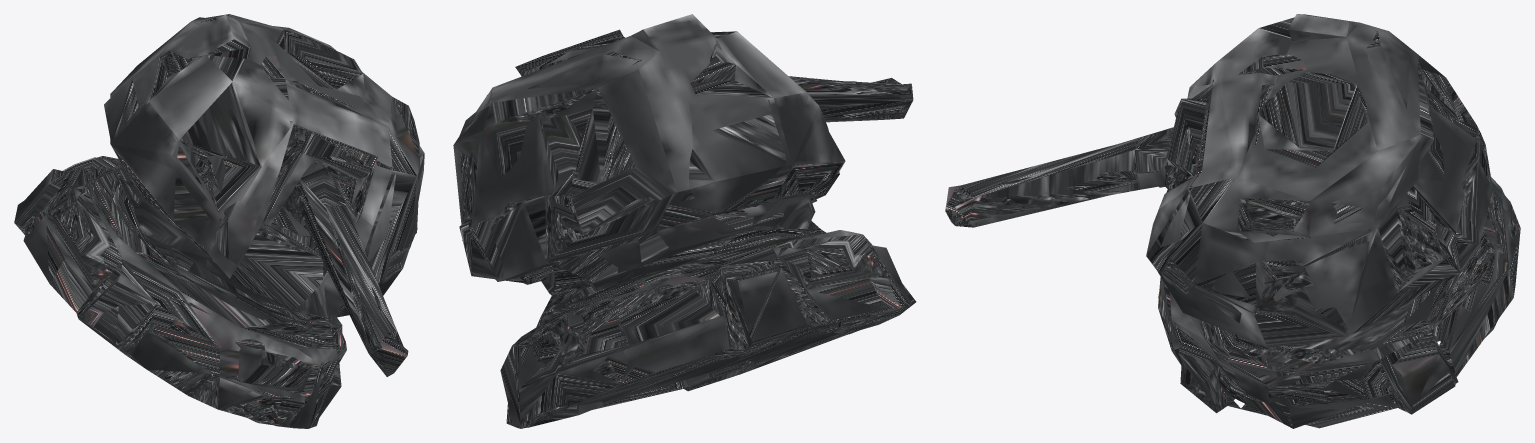
Rendered from gun-boat.glb.
3 renders of one model, left to right at view 1: azimuth 30°, elevation 25°; view 2: azimuth 150°, elevation 25°; view 3: azimuth 270°, elevation 25°, orthographic. The views are drawn at different scales.
Size of the model in its own units: 0.795 by 0.7927 by 1.09.
1 material, 1 textured.
